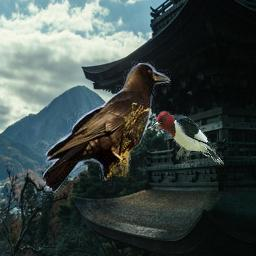Crow: (43, 59, 172, 197)
Woodpecker: (150, 107, 225, 168)
